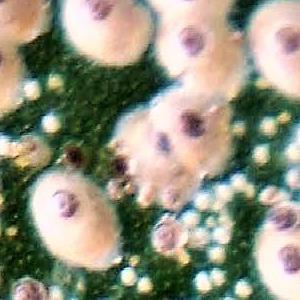Femea: (40, 186, 121, 274), (68, 0, 148, 61), (158, 12, 230, 76), (153, 115, 211, 188), (256, 5, 299, 84), (117, 147, 170, 197), (263, 239, 299, 298), (8, 276, 49, 299), (263, 203, 298, 228)
Linfa: (251, 113, 279, 142), (191, 270, 213, 293), (231, 275, 252, 298), (248, 142, 270, 163), (113, 267, 138, 285), (204, 264, 224, 286), (189, 190, 208, 211), (213, 184, 234, 202), (22, 77, 39, 99), (206, 246, 229, 262), (37, 114, 58, 131), (258, 185, 275, 206), (280, 144, 298, 163), (282, 169, 299, 188), (136, 280, 157, 294), (241, 180, 255, 201), (228, 173, 244, 191)
